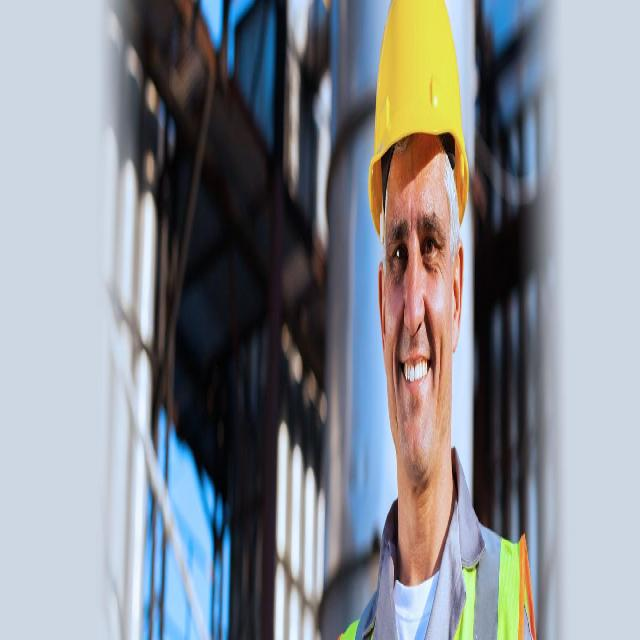Reflective-Jacket: (337, 504, 532, 640)
Safety-Helmet: (367, 0, 470, 239)
